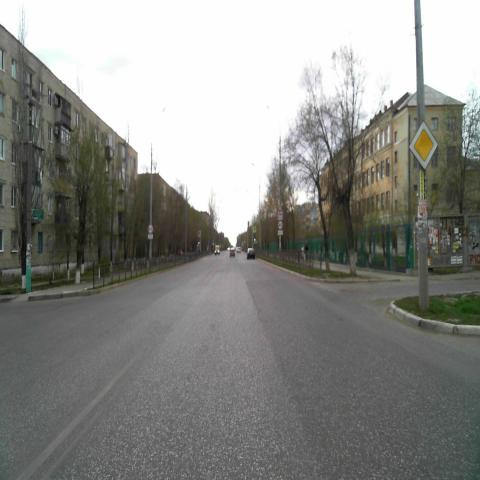2_1: (409, 118, 438, 170)
